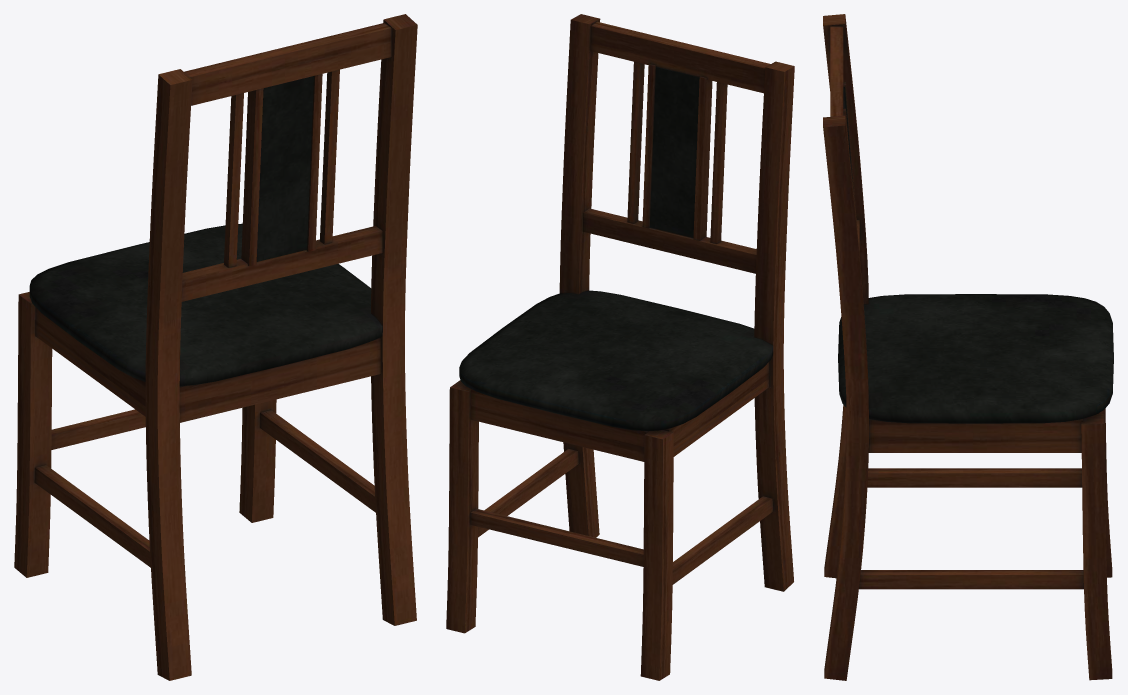
Rendered from chair_leather_web.glb.
The picture shows the model from 3 angles, left to right: view 1: azimuth 30°, elevation 25°; view 2: azimuth 150°, elevation 25°; view 3: azimuth 270°, elevation 25°; orthographic projection. The views are drawn at different scales.
Visible parts, largest first — view 1: ChairLeather_Mesh; view 2: ChairLeather_Mesh; view 3: ChairLeather_Mesh.
Part boxes in pixels (box(x1,y1,x2,y2)): ChairLeather_Mesh: box(14, 14, 417, 680); ChairLeather_Mesh: box(446, 14, 794, 680); ChairLeather_Mesh: box(823, 14, 1113, 680).
Size of the model in its own units: 0.43 by 0.9337 by 0.4429.
Materials: 1 (1 with a texture image).
